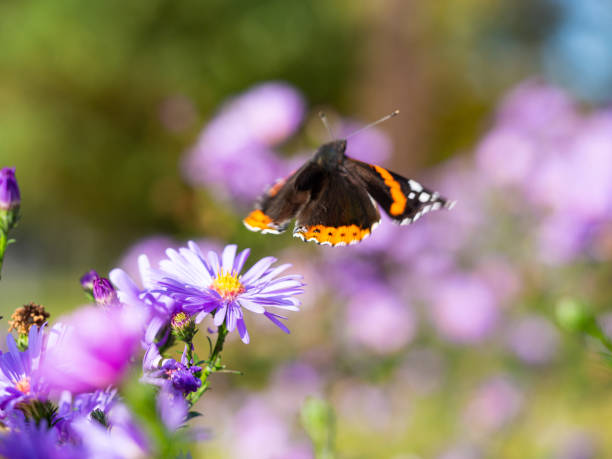Butterfly: (239, 108, 453, 251)
